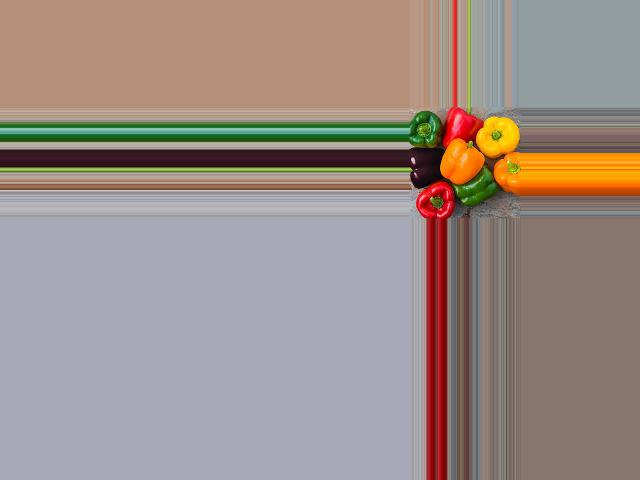bell_pepper: (484, 153, 520, 205)
